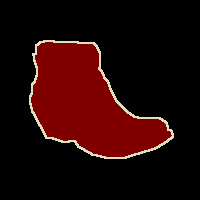shoe: (30, 40, 173, 158)
